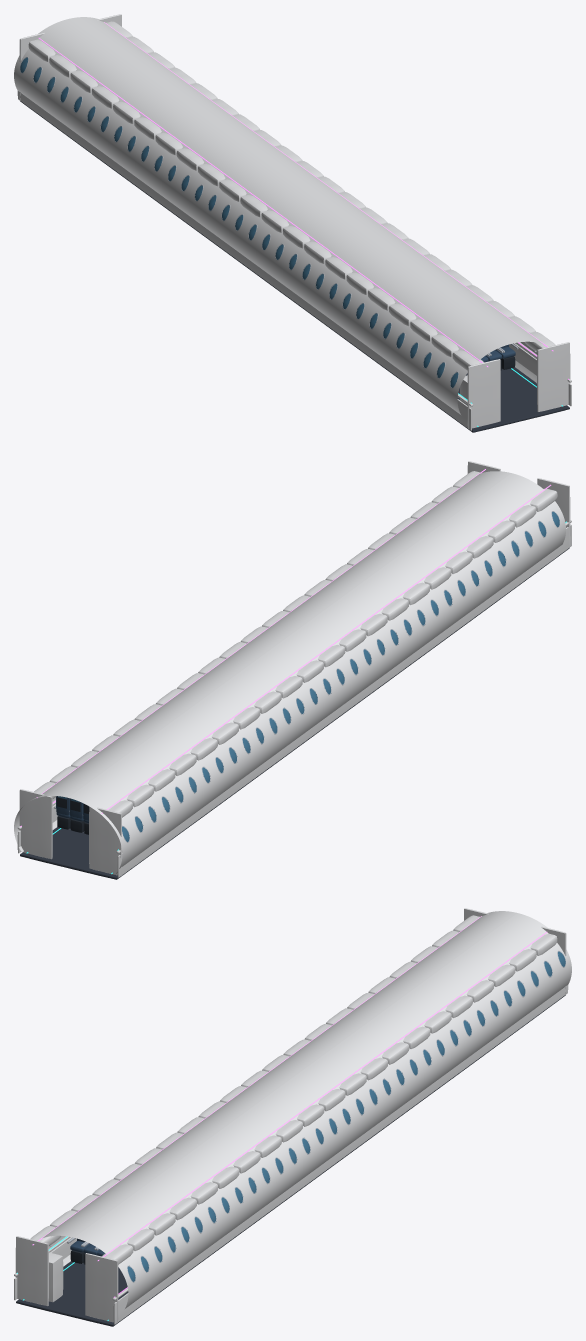
Rendered from boeing-737-max-7.glb.
The picture shows the model from 3 angles, top to bottom: view 1: azimuth 30°, elevation 25°; view 2: azimuth 150°, elevation 25°; view 3: azimuth 330°, elevation 25°; orthographic projection.
Parts seen in each view (by area): view 1: Lower sidewall -1, Carpet floor, Bulkhead right, Bulkhead left, Cabin wall bay -1 31, Cabin wall bay -1 22, Cabin wall bay -1 1, Cabin wall bay -1 4, Cabin wall bay -1 30, Cabin wall bay -1 14, Cabin wall bay -1 9, Cabin wall bay -1 3 (+27 smaller); view 2: Lower sidewall -1, Bulkhead left (×2), Carpet floor, Bulkhead right, Cabin wall bay -1 1, Cabin wall bay -1 28, Cabin wall bay -1 4, Cabin wall bay -1 9, Cabin wall bay -1 11, Cabin wall bay -1 25, Cabin wall bay -1 3, Cabin wall bay -1 20 (+27 smaller); view 3: Lower sidewall 1, Carpet floor, Bulkhead left, Bulkhead right, Cabin wall bay 1 31, Cabin wall bay 1 30, Cabin wall bay 1 1, Cabin wall bay 1 22, Cabin wall bay 1 4, Cabin wall bay 1 14, Cabin wall bay 1 28, Cabin wall bay 1 3 (+28 smaller).
Boxes of the visible parts, box(x1,y1,x2,y2) form: Lower sidewall -1: box(17, 91, 472, 430); Carpet floor: box(20, 101, 569, 432); Bulkhead right: box(537, 342, 570, 411); Bulkhead left: box(467, 359, 500, 428); Cabin wall bay -1 31: box(430, 324, 497, 404); Cabin wall bay -1 22: box(309, 235, 376, 315); Cabin wall bay -1 1: box(27, 29, 94, 109); Cabin wall bay -1 4: box(67, 58, 134, 138); Cabin wall bay -1 30: box(417, 314, 484, 394); Cabin wall bay -1 14: box(202, 157, 269, 237); Cabin wall bay -1 9: box(135, 107, 202, 187); Cabin wall bay -1 3: box(54, 48, 121, 128); Lower sidewall -1: box(117, 524, 571, 877); Bulkhead left (×2): box(89, 478, 570, 875); Carpet floor: box(20, 548, 569, 879); Bulkhead right: box(19, 789, 52, 859); Cabin wall bay -1 1: box(82, 778, 149, 858); Cabin wall bay -1 28: box(445, 512, 512, 593); Cabin wall bay -1 4: box(122, 748, 189, 829); Cabin wall bay -1 9: box(189, 699, 256, 779); Cabin wall bay -1 11: box(216, 680, 283, 760); Cabin wall bay -1 25: box(404, 542, 471, 622); Cabin wall bay -1 3: box(109, 758, 176, 839); Cabin wall bay -1 20: box(337, 591, 404, 671); Lower sidewall 1: box(113, 985, 568, 1324); Carpet floor: box(16, 995, 565, 1326); Bulkhead left: box(15, 1236, 48, 1305); Bulkhead right: box(85, 1253, 118, 1322); Cabin wall bay 1 31: box(88, 1218, 155, 1298); Cabin wall bay 1 30: box(101, 1208, 168, 1288); Cabin wall bay 1 1: box(491, 923, 558, 1003); Cabin wall bay 1 22: box(209, 1129, 276, 1209); Cabin wall bay 1 4: box(451, 952, 518, 1032); Cabin wall bay 1 14: box(316, 1051, 383, 1131); Cabin wall bay 1 28: box(128, 1188, 195, 1268); Cabin wall bay 1 3: box(464, 942, 531, 1022).
Size of the model in its own units: 3.54 by 2.21 by 25.63.
